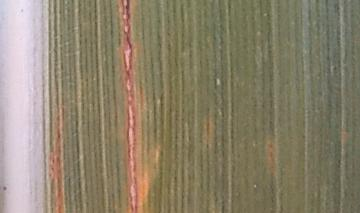tarspot: (1, 184, 8, 192), (18, 6, 25, 12)
